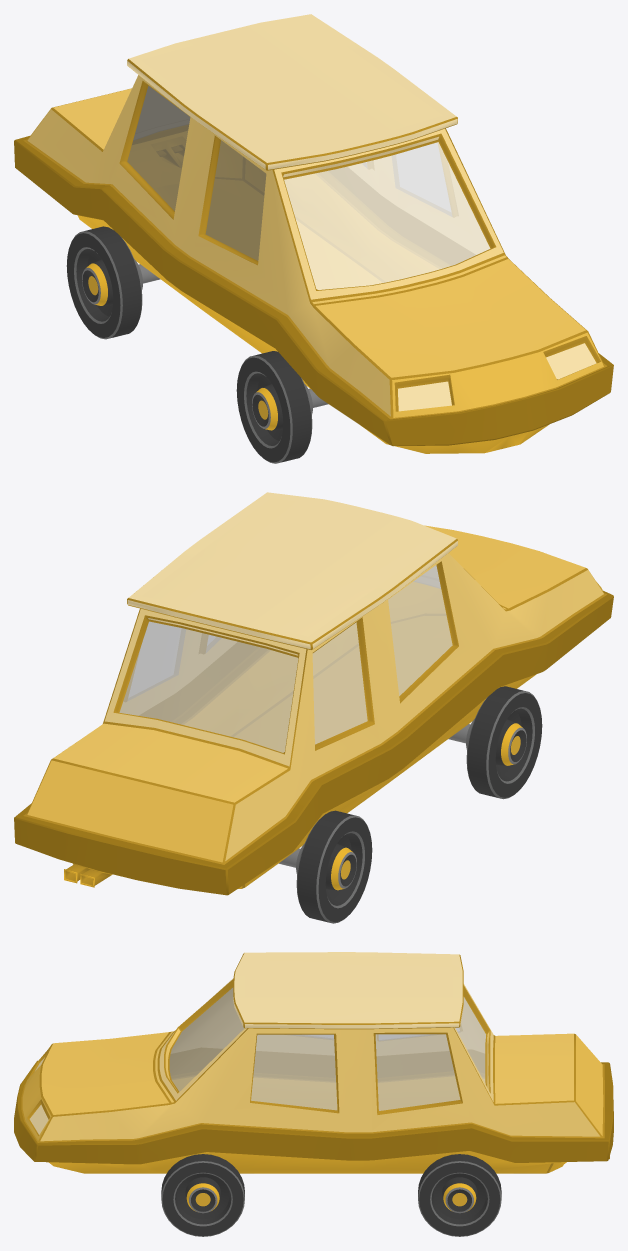
Rendered from lowpolycar.glb.
3 views of the same model, one above another, from view 1: azimuth 30°, elevation 25°; view 2: azimuth 150°, elevation 25°; view 3: azimuth 270°, elevation 25° (orthographic). The views are drawn at different scales.
Parts seen in each view (by area): view 1: Auto, Räder; view 2: Auto, Räder; view 3: Auto, Räder.
Boxes of the visible parts, left/top/right/bottom form: Auto: left=14, top=14, right=613, bottom=453; Räder: left=66, top=226, right=328, bottom=463; Auto: left=14, top=492, right=613, bottom=895; Räder: left=279, top=686, right=542, bottom=923; Auto: left=14, top=952, right=613, bottom=1173; Räder: left=161, top=1154, right=501, bottom=1236.
Size of the model in its own units: 4.93 by 4.95 by 13.17.
3 materials, 2 textured.
